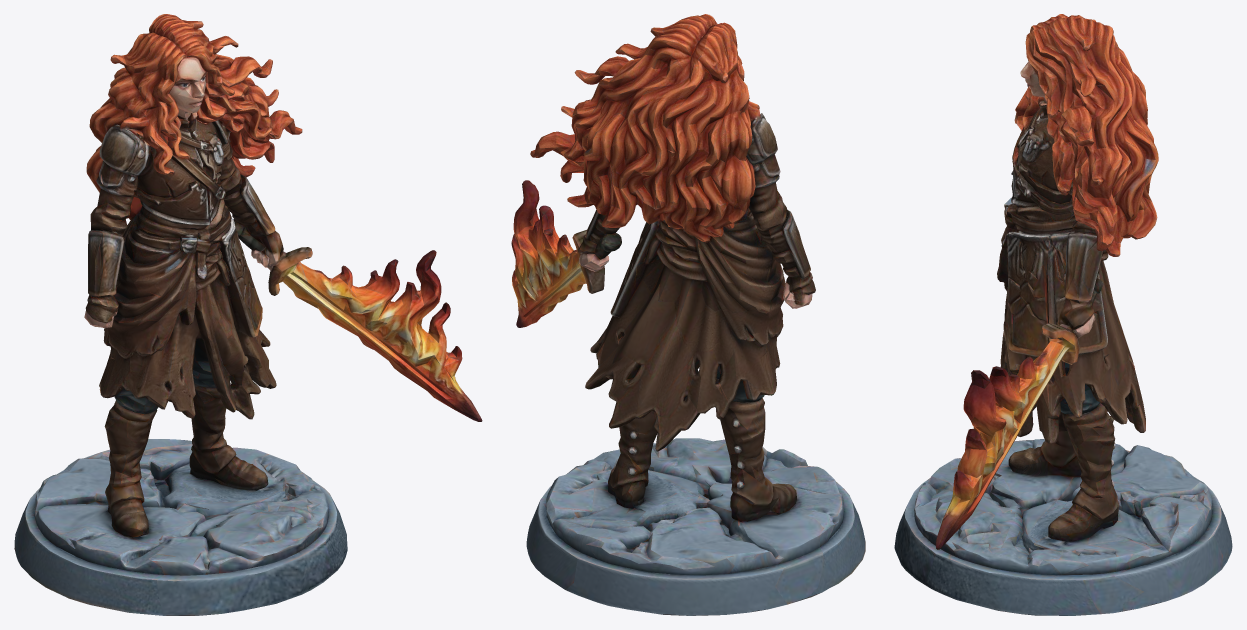
File: fara.glb
3 views of the same model, side by side, from view 1: azimuth 30°, elevation 25°; view 2: azimuth 150°, elevation 25°; view 3: azimuth 270°, elevation 25° (orthographic).
Visible parts, largest first — view 1: output_unwrapped; view 2: output_unwrapped; view 3: output_unwrapped.
Part boxes in pixels (x1,y1,x2,y2): output_unwrapped: (14, 14, 482, 615); output_unwrapped: (511, 14, 865, 615); output_unwrapped: (894, 14, 1232, 615).
Size of the model in its own units: 1.47 by 1.9 by 1.11.
1 material, 1 textured.
